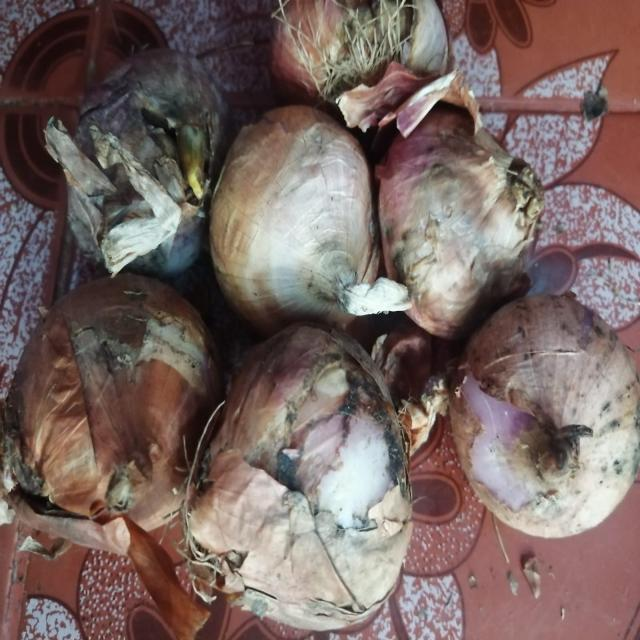rotten: (332, 354, 408, 491), (90, 114, 170, 208), (102, 318, 200, 394), (546, 315, 604, 377)
